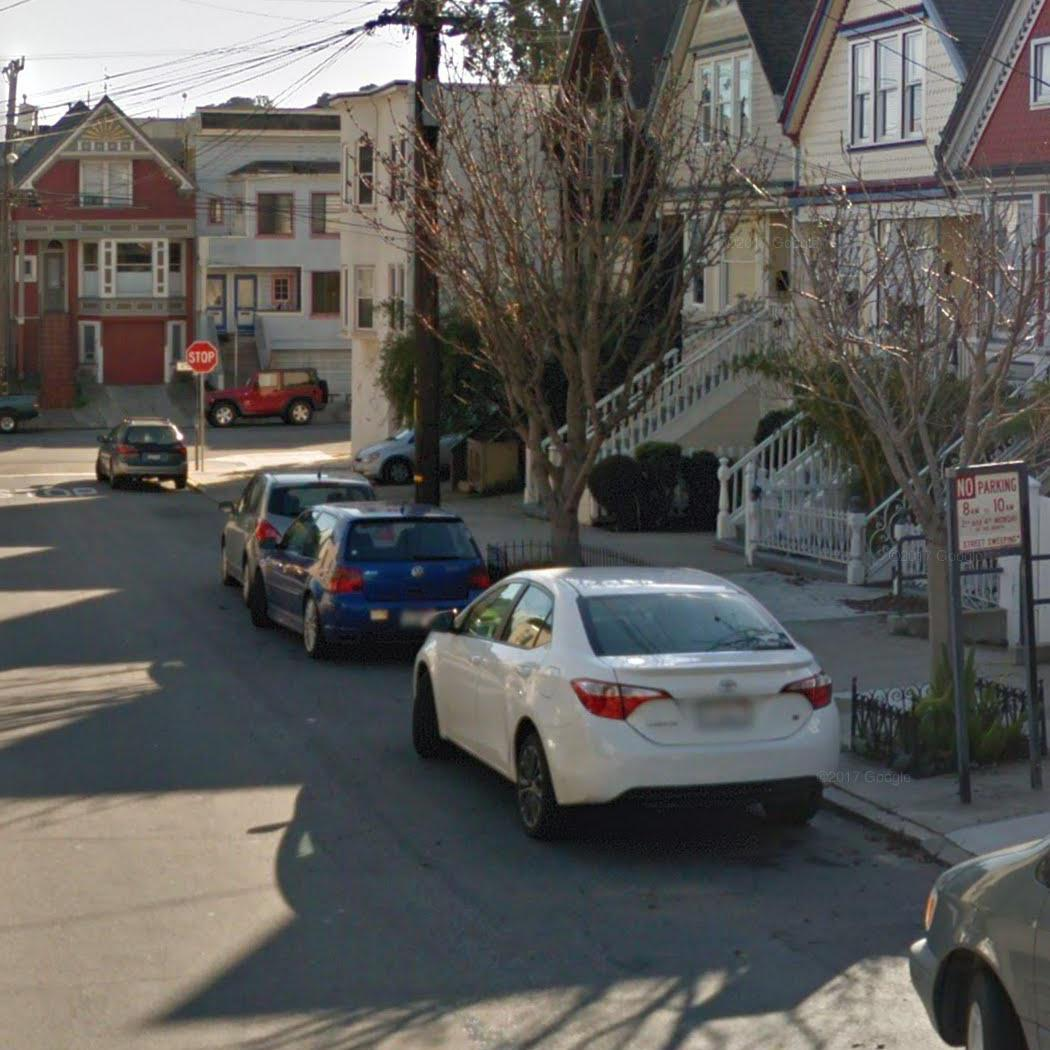No Parking: (952, 468, 1025, 556)
